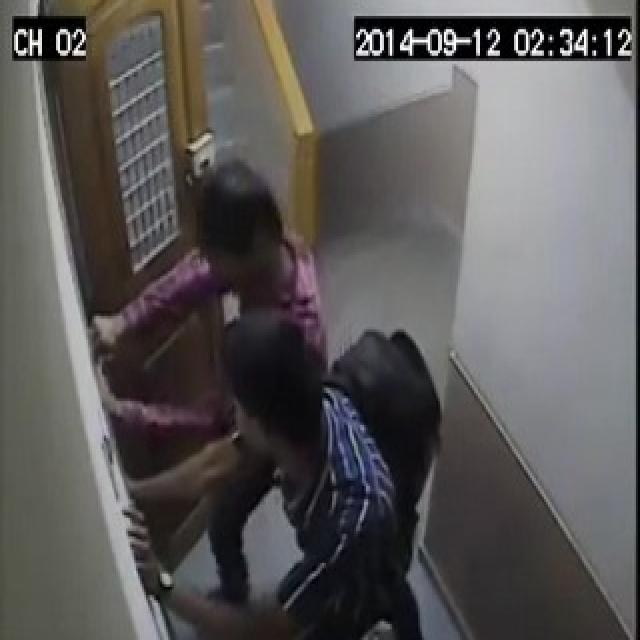thief: (90, 161, 436, 635)
